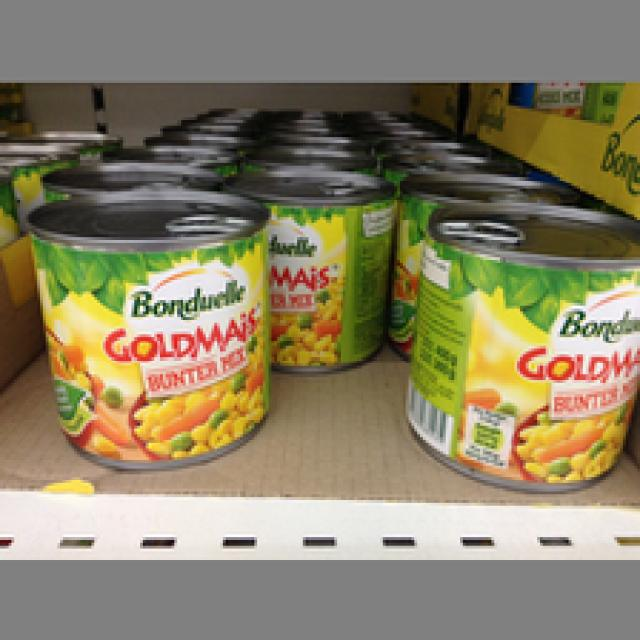groceries: (25, 188, 268, 468), (400, 200, 637, 486), (220, 166, 394, 371)
